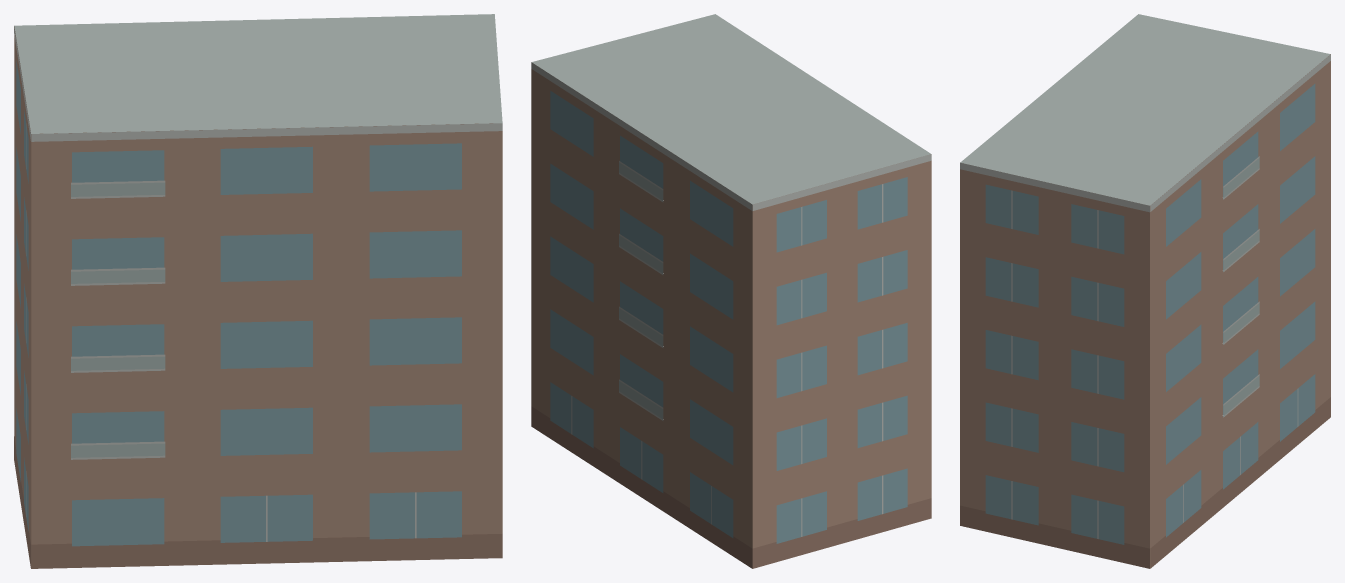
The model's file is survey-upis-32947925.glb.
3 views of the same model, side by side, from view 1: azimuth 30°, elevation 25°; view 2: azimuth 150°, elevation 25°; view 3: azimuth 270°, elevation 25° (orthographic). The views are drawn at different scales.
Visible parts, largest first — view 1: survey-upis-32947925.tmp; view 2: survey-upis-32947925.tmp; view 3: survey-upis-32947925.tmp.
Part boxes in pixels (bbox=[...]): survey-upis-32947925.tmp: bbox=[14, 14, 502, 568]; survey-upis-32947925.tmp: bbox=[531, 14, 931, 568]; survey-upis-32947925.tmp: bbox=[960, 14, 1330, 568].
Bounding box in the file's own units: 15.19 × 13.4 × 12.41.
